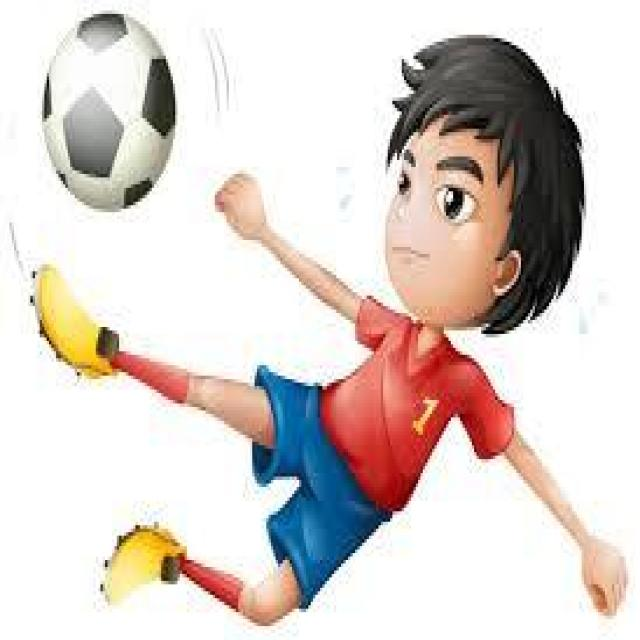Soccer Ball: (42, 10, 178, 209)
